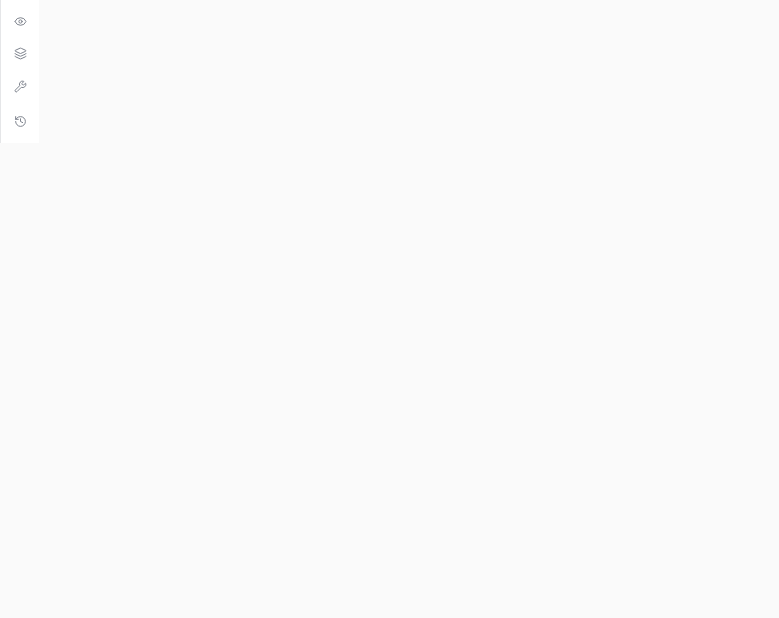
Scenario: RightRail › close button (X) hides the panel
Step 1. Click the button with test id "right-rail-history" → {"x": 20, "y": 122}, box top-left (5, 107), bottom-right (35, 137)
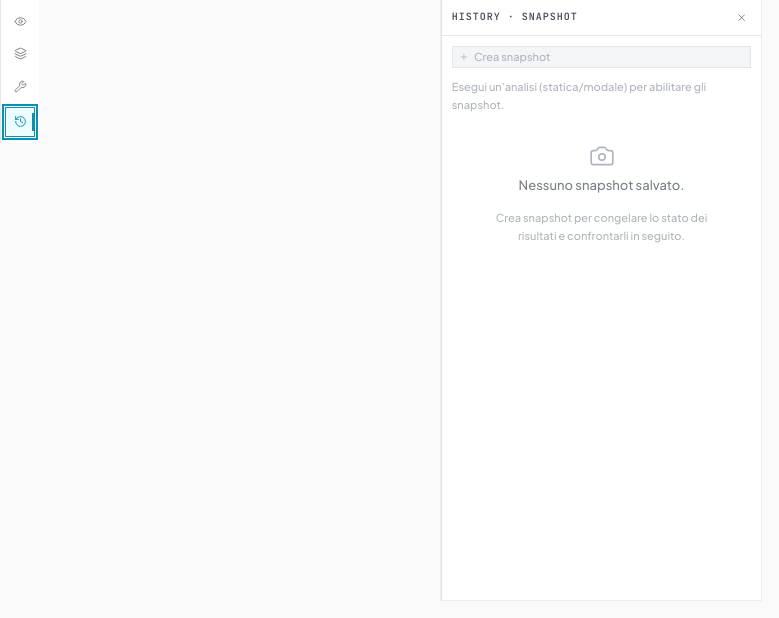
Now the element with test id "right-panel-history" is shown, box top-left (441, 0), bottom-right (761, 600)
Step 2. Click the button with test id "right-panel-close" → {"x": 742, "y": 17}, box top-left (732, 8), bottom-right (751, 27)
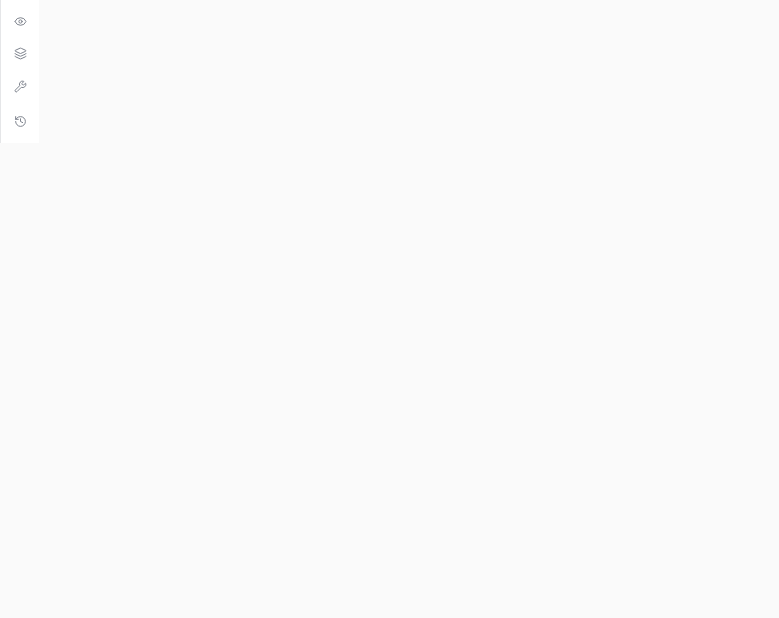
Now the element with test id "right-panel-history" is gone
